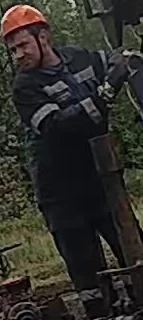gloves: (91, 53, 133, 105)
helmet: (0, 3, 49, 42)
vest: (12, 44, 119, 199)
